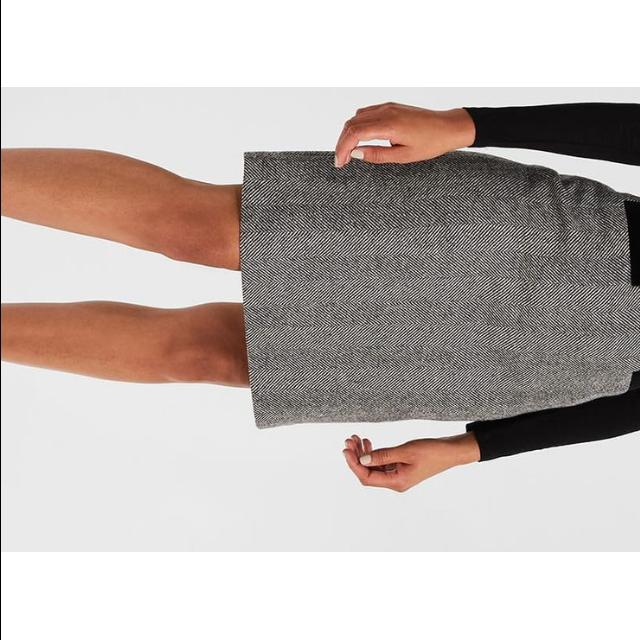wool: (236, 88, 640, 470)
